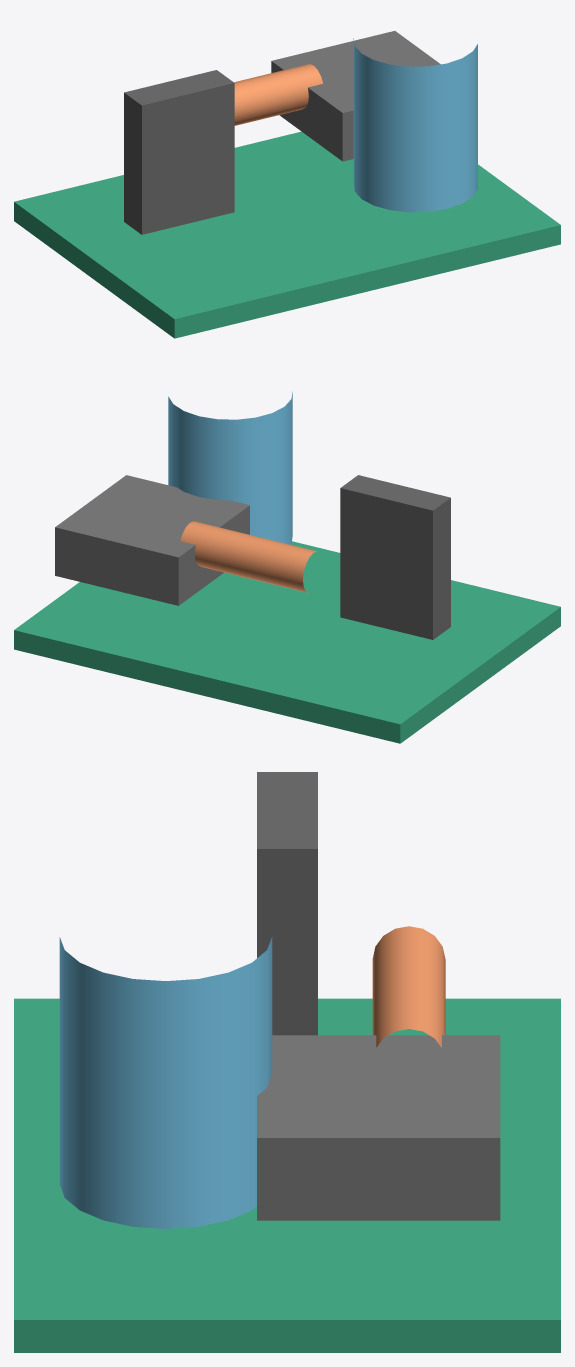
The model's file is basic_electronics_ee.glb.
3 renders of one model, top to bottom at view 1: azimuth 30°, elevation 25°; view 2: azimuth 150°, elevation 25°; view 3: azimuth 270°, elevation 25°, orthographic. The views are drawn at different scales.
Visible parts, largest first — view 1: ElectronicsPCBChassis, FilterElectrolyticCapacitor, TO220PowerTransistor, BridgeRectifierIC, ZenerDiodeRegulator; view 2: ElectronicsPCBChassis, TO220PowerTransistor, BridgeRectifierIC, FilterElectrolyticCapacitor, ZenerDiodeRegulator; view 3: ElectronicsPCBChassis, FilterElectrolyticCapacitor, BridgeRectifierIC, TO220PowerTransistor, ZenerDiodeRegulator.
Boxes of the visible parts, bbox=[...] form: ElectronicsPCBChassis: bbox=[14, 131, 560, 338]; FilterElectrolyticCapacitor: bbox=[353, 38, 477, 212]; TO220PowerTransistor: bbox=[124, 70, 234, 234]; BridgeRectifierIC: bbox=[271, 31, 440, 161]; ZenerDiodeRegulator: bbox=[234, 64, 322, 125]; ElectronicsPCBChassis: bbox=[14, 541, 560, 743]; TO220PowerTransistor: bbox=[340, 475, 450, 639]; BridgeRectifierIC: bbox=[55, 475, 249, 605]; FilterElectrolyticCapacitor: bbox=[168, 391, 292, 544]; ZenerDiodeRegulator: bbox=[180, 521, 317, 592]; ElectronicsPCBChassis: bbox=[14, 998, 560, 1352]; FilterElectrolyticCapacitor: bbox=[59, 937, 272, 1228]; BridgeRectifierIC: bbox=[257, 1035, 500, 1220]; TO220PowerTransistor: bbox=[257, 772, 317, 1035]; ZenerDiodeRegulator: bbox=[372, 926, 445, 1047].
Bounding box in the file's own units: 2.5 × 1.21 × 1.8.
